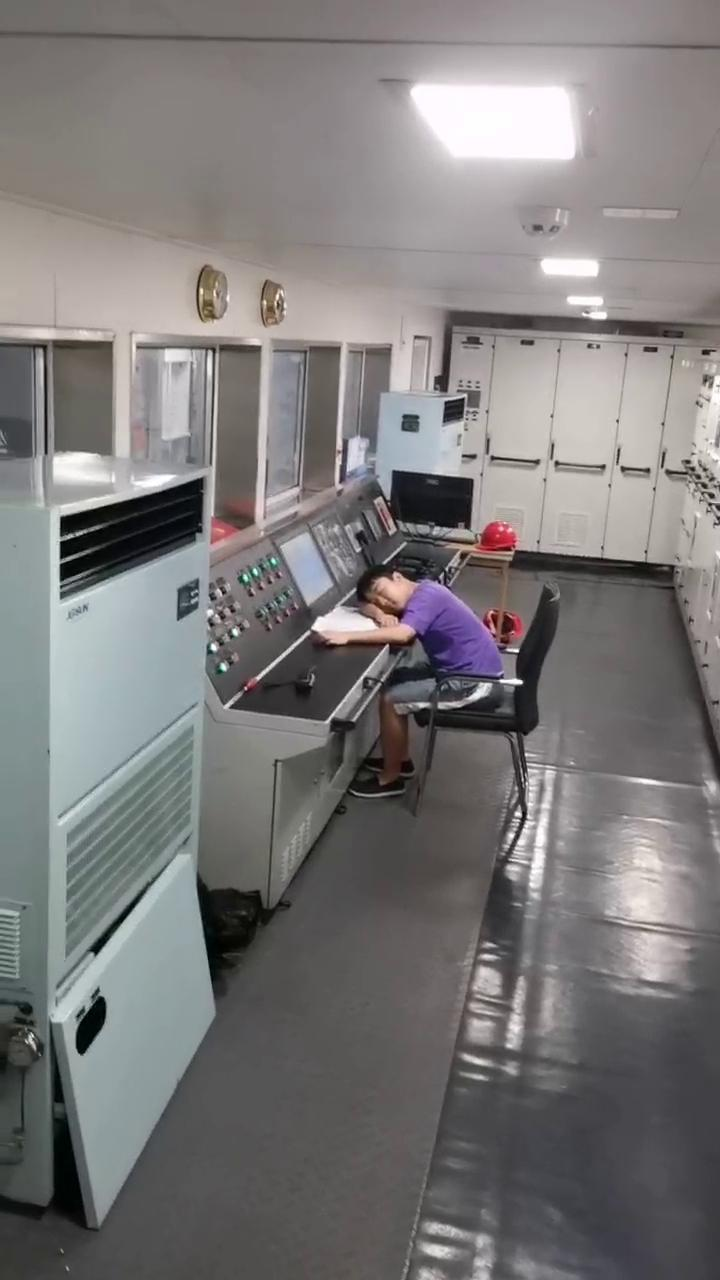sleep: (306, 562, 509, 720)
